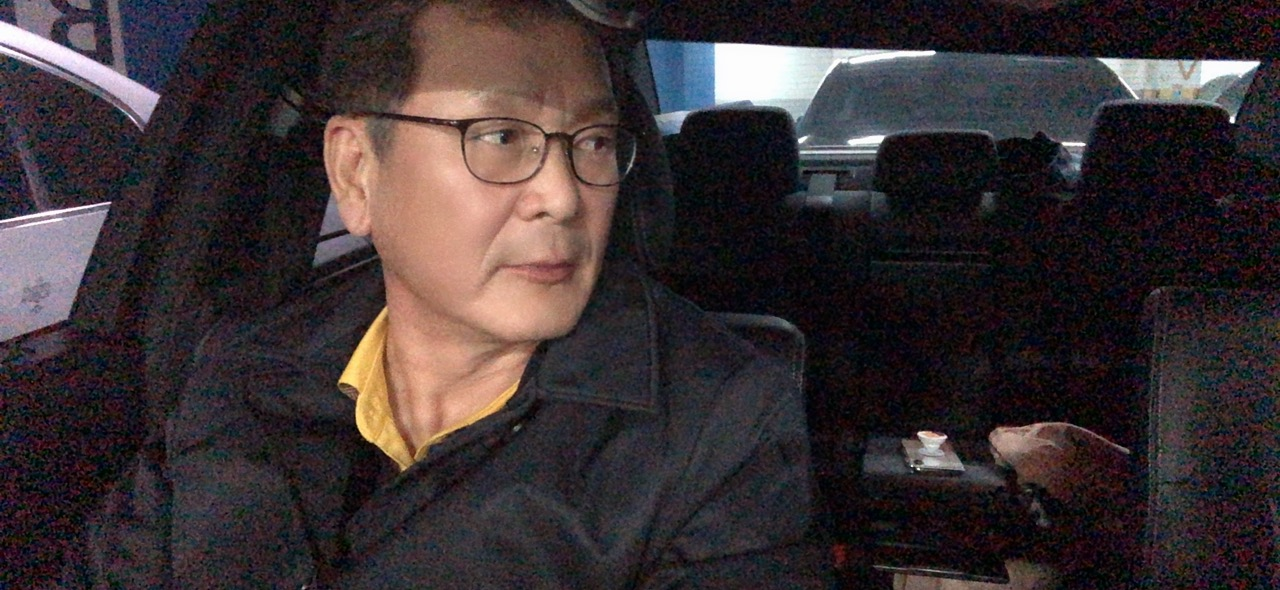right: (84, 4, 802, 590)
